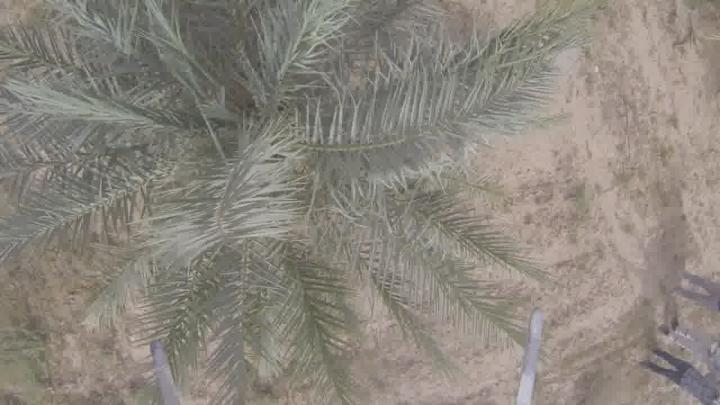Date-Palm-Crown: (44, 10, 450, 364)
